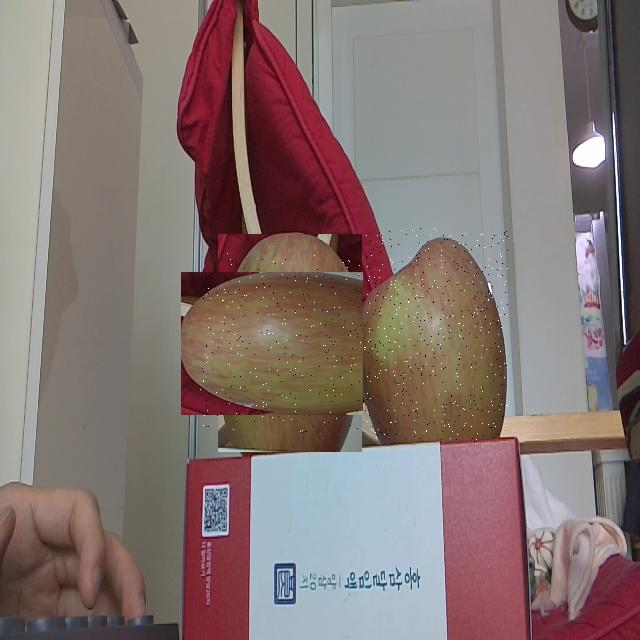apple: (200, 253, 380, 433), (363, 228, 508, 441)
